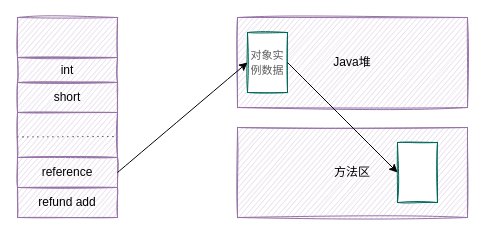
Image size: 485x235. Some labels were removed from this diagram. The shapes that lost their labels are listed below. From the top down, each one's centre as x and y in pixels, then its label:
point (67, 37): 本地变量表
point (67, 135): double
point (417, 172): 对象类型数据
